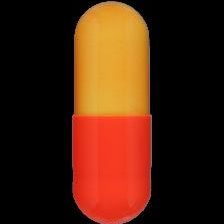42291-243: (0, 0, 224, 224)
